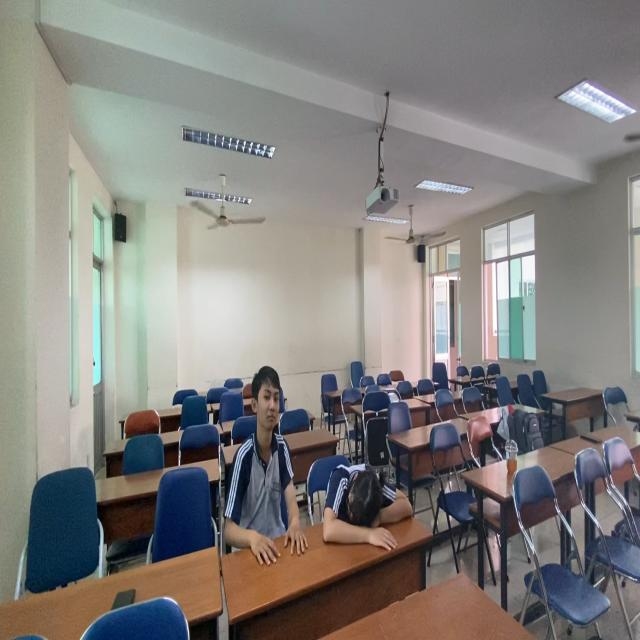sleep: (319, 458, 418, 550)
